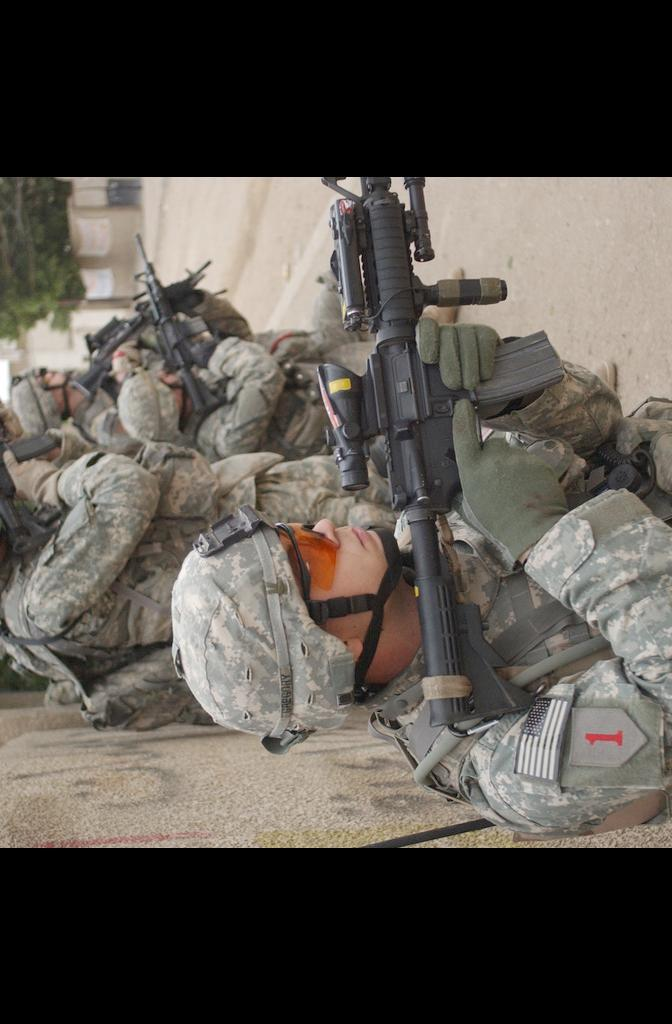gun: (313, 176, 549, 717), (124, 232, 214, 377), (0, 356, 64, 508)
